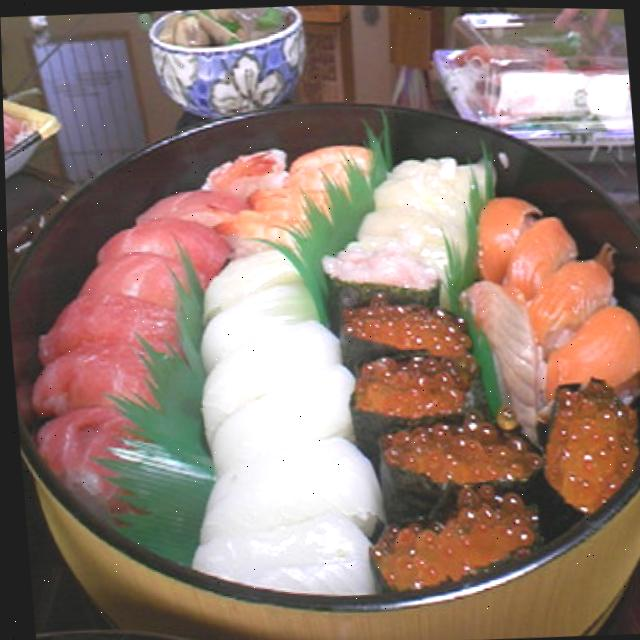寿司卷物: (40, 113, 640, 638)
